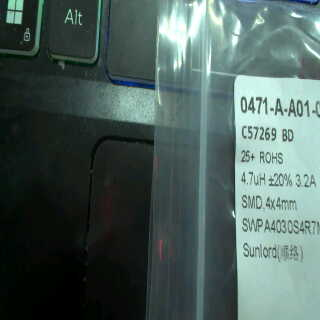4.7uH: (238, 167, 268, 187)
